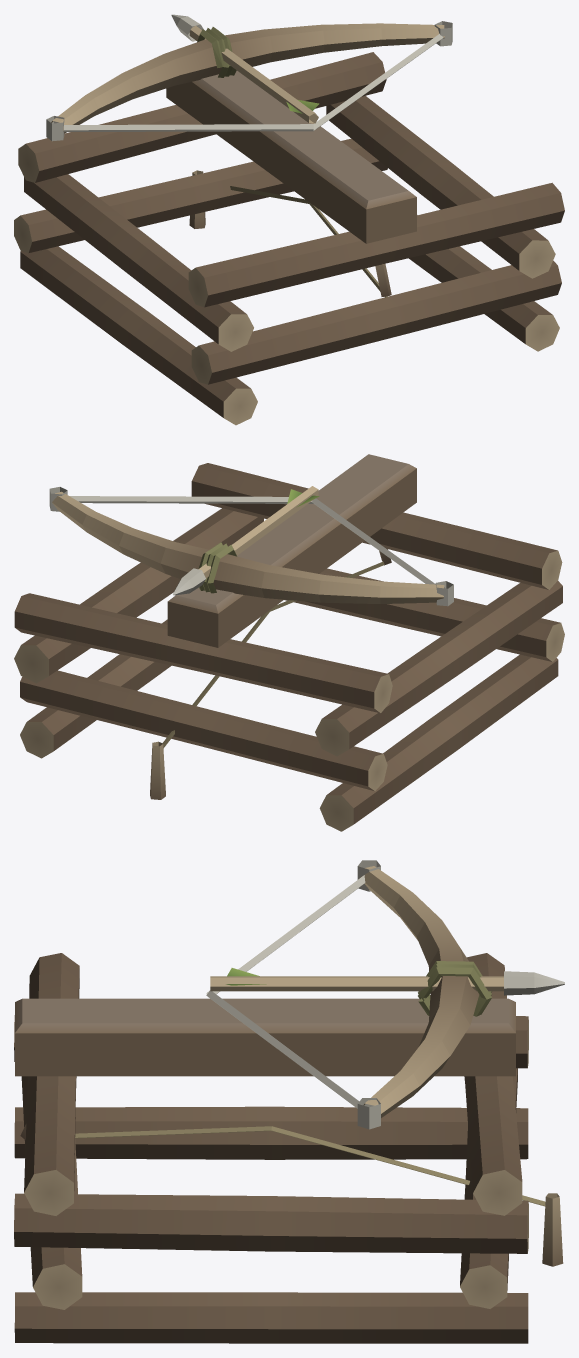
The model's file is set_crossbow_a.glb.
3 renders of one model, top to bottom at view 1: azimuth 30°, elevation 25°; view 2: azimuth 150°, elevation 25°; view 3: azimuth 270°, elevation 25°, orthographic. The views are drawn at different scales.
Visible parts, largest first — view 1: Base, Bow, String, Bolt; view 2: Base, Bow, String, Bolt; view 3: Base, Bow, Bolt, String.
Boxes of the visible parts, <box> form: Base: <box>14,52,564,425</box>; Bow: <box>46,21,452,141</box>; String: <box>64,34,443,131</box>; Bolt: <box>171,14,319,123</box>; Base: <box>14,454,564,831</box>; Bow: <box>49,487,453,606</box>; String: <box>69,496,435,584</box>; Bolt: <box>173,486,319,595</box>; Base: <box>14,953,563,1343</box>; Bow: <box>357,860,491,1129</box>; Bolt: <box>210,968,564,995</box>; String: <box>206,875,365,1108</box>.
Size of the model in its own units: 0.9562 by 0.5138 by 0.9015.
